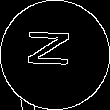N_E: (29, 34, 81, 76)
